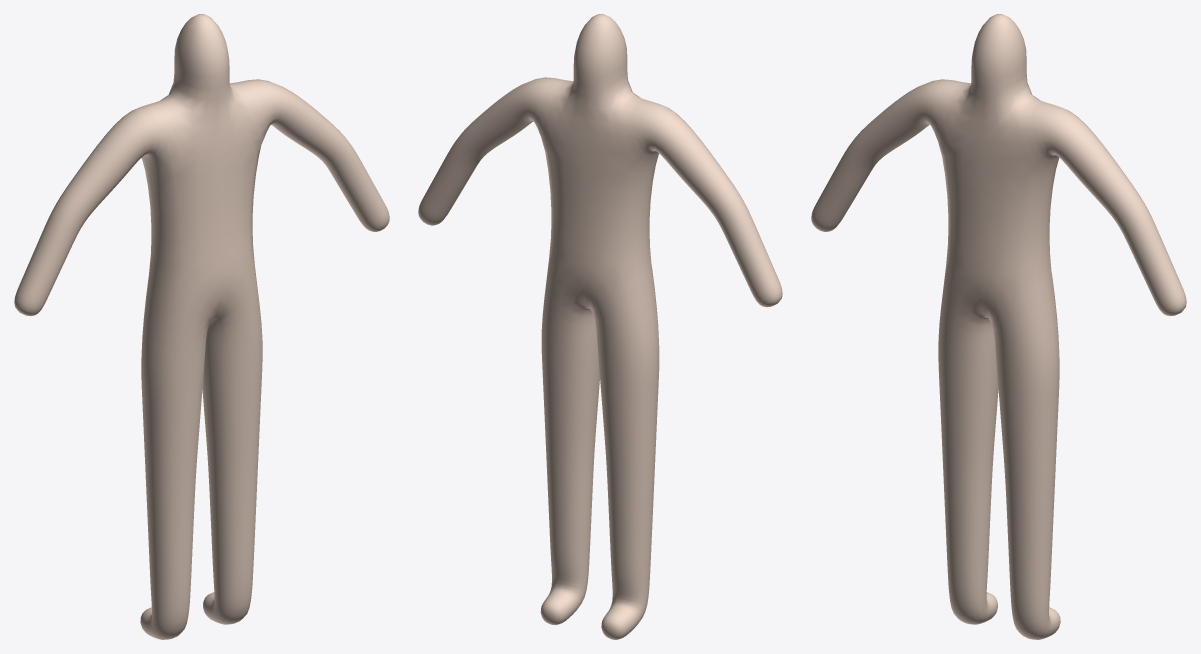
The model's file is character_B_realistic.glb.
3 renders of one model, left to right at view 1: azimuth 30°, elevation 25°; view 2: azimuth 150°, elevation 25°; view 3: azimuth 330°, elevation 25°, orthographic. The views are drawn at different scales.
Parts seen in each view (by area): view 1: B_realistic; view 2: B_realistic; view 3: B_realistic.
Boxes of the visible parts, <box> form: B_realistic: <box>14,14,389,639</box>; B_realistic: <box>418,14,782,639</box>; B_realistic: <box>811,14,1186,639</box>.
Size of the model in its own units: 1.19 by 1.91 by 0.2361.
